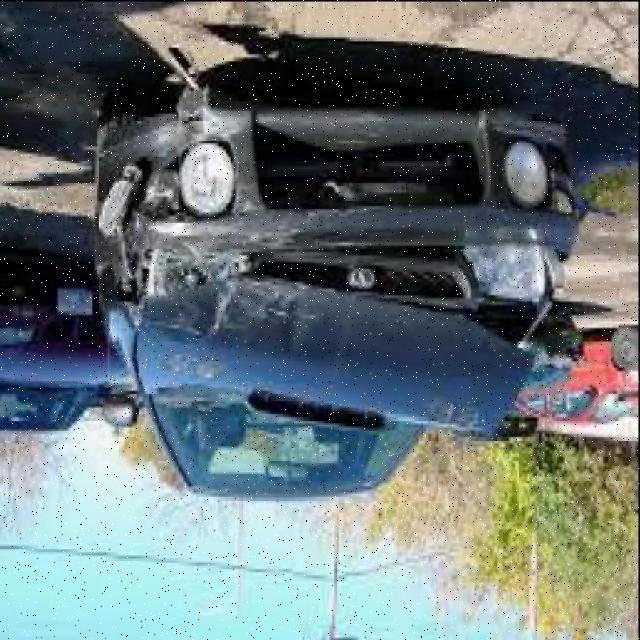damage: (91, 67, 568, 434)
